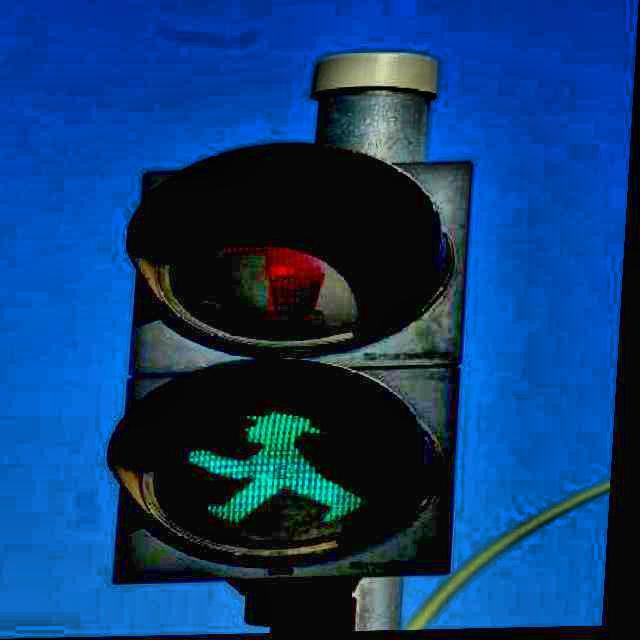semaforo pedestre: (49, 92, 537, 632)
